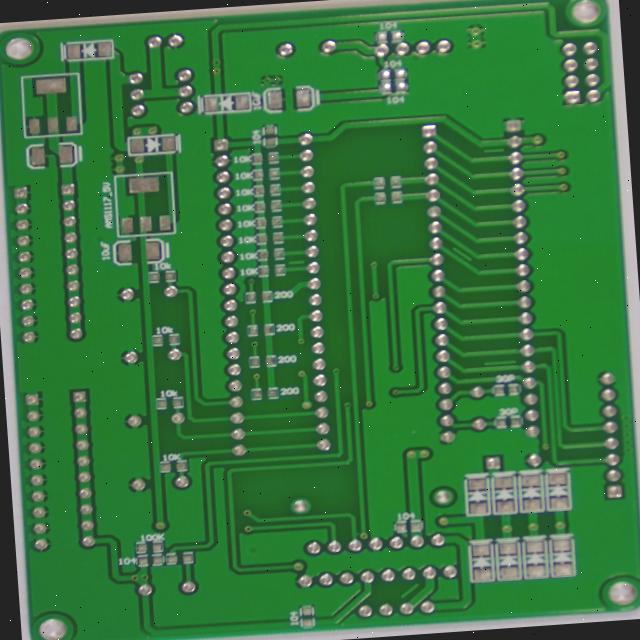spurious_copper: (423, 260, 456, 291), (460, 384, 502, 405), (459, 158, 492, 173), (235, 280, 260, 293), (360, 630, 391, 638)
